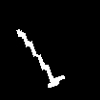half_double_crochet: (16, 29, 64, 87)
